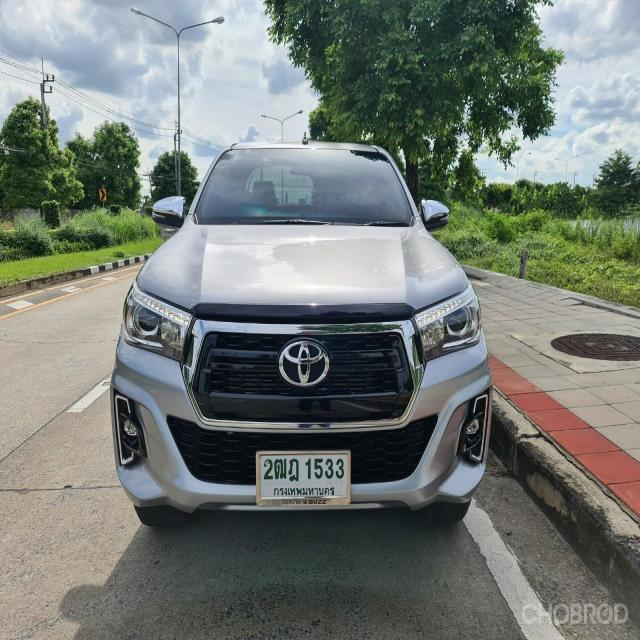license_plate: (254, 448, 352, 510)
